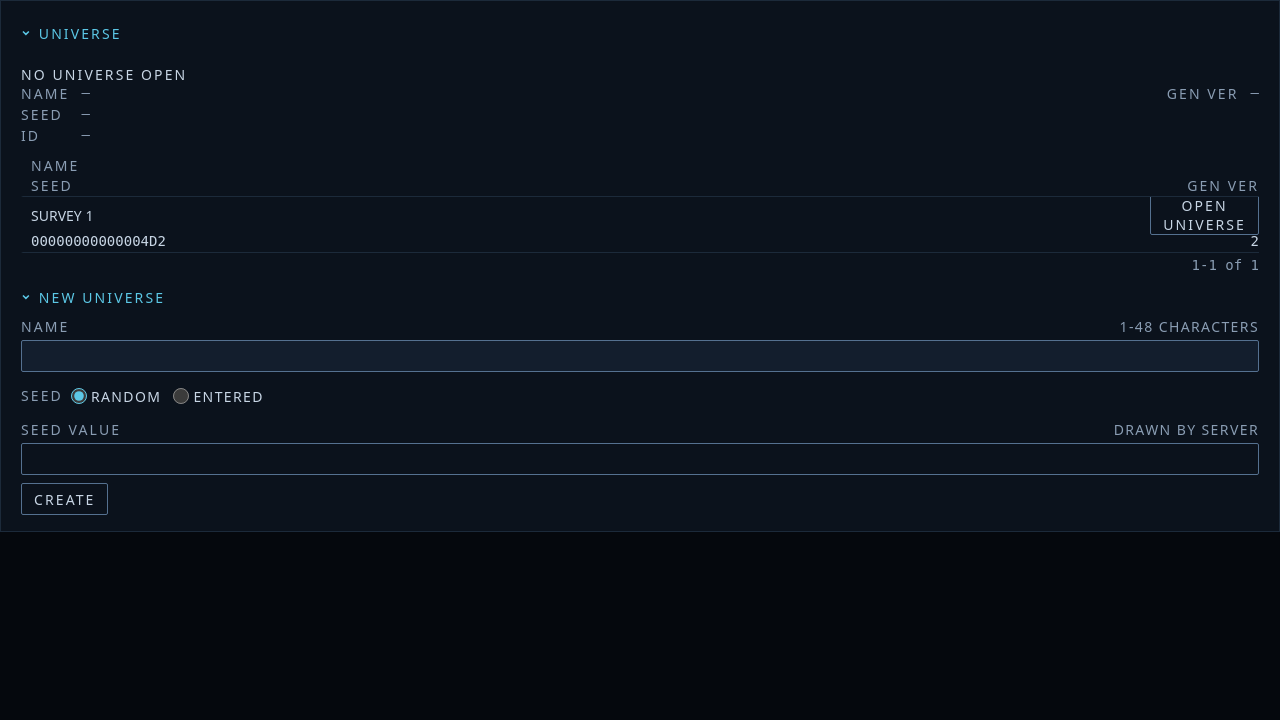
Test: UniversePanel › the open universe and the list › shows the server's reason when an open is rejected
Click the button with aria-label "Open universe SURVEY 1" at (1205, 215), box [1150,195,1259,235]
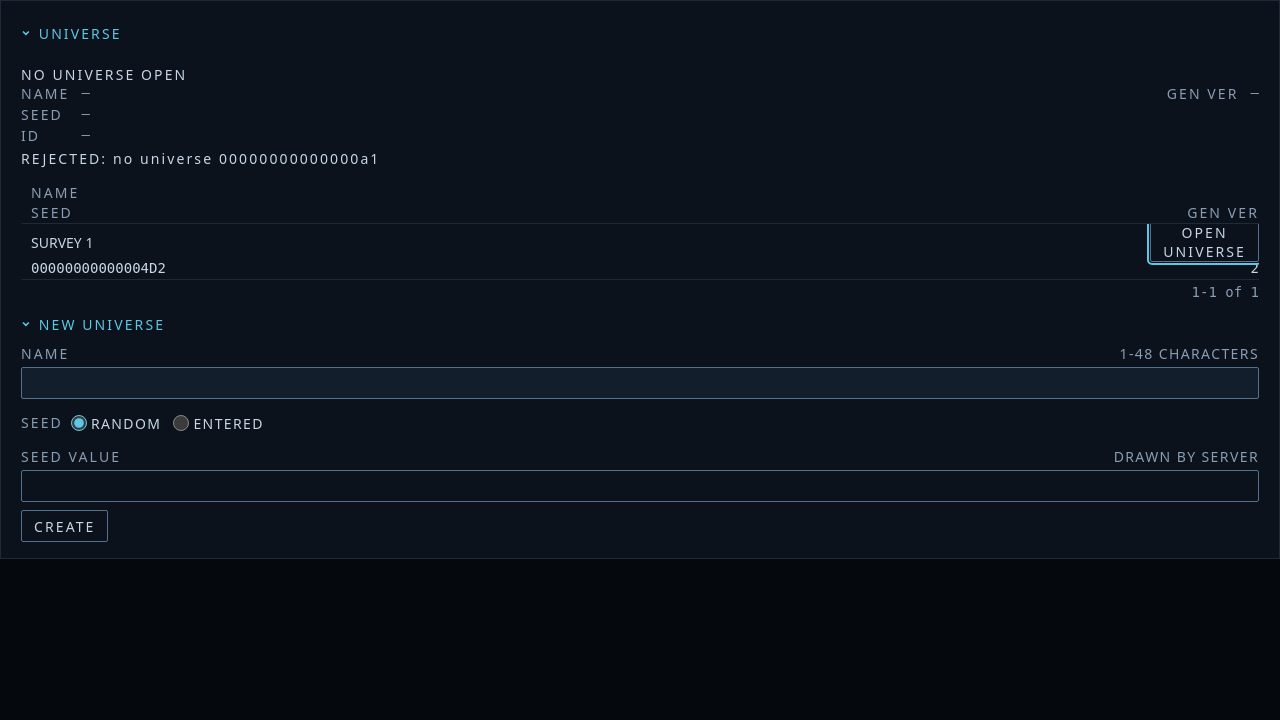
Check: the 1st text "—" is shown, box [82,84,90,100]
Check: the text "REJECTED: no universe 00000000000000a1" is shown, box [21,149,380,168]
